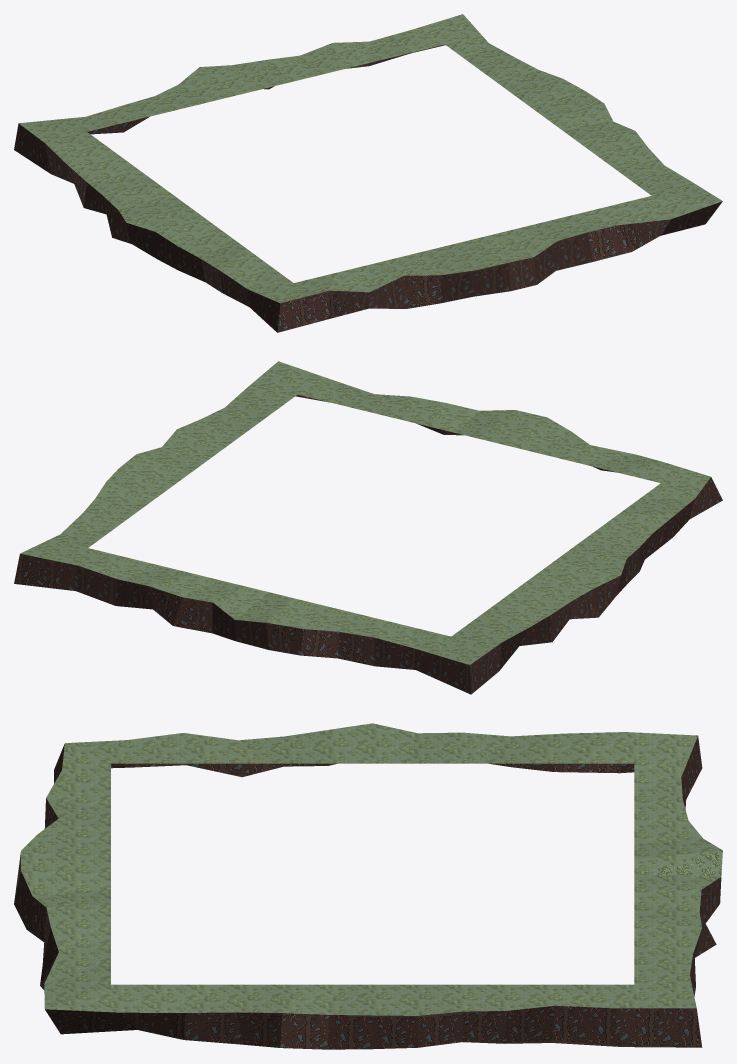
File: entorno.fbx
The picture shows the model from 3 angles, top to bottom: view 1: azimuth 30°, elevation 25°; view 2: azimuth 150°, elevation 25°; view 3: azimuth 270°, elevation 25°; orthographic projection. The views are drawn at different scales.
Visible parts, largest first — view 1: bosque_entorno; view 2: bosque_entorno; view 3: bosque_entorno.
Boxes of the visible parts, x1,y1,x2,y2 form: bosque_entorno: [14, 14, 722, 332]; bosque_entorno: [14, 361, 722, 694]; bosque_entorno: [14, 723, 722, 1049].
Size of the model in its own units: 1631 by 106 by 1652.
Materials: 2 (2 with a texture image).
